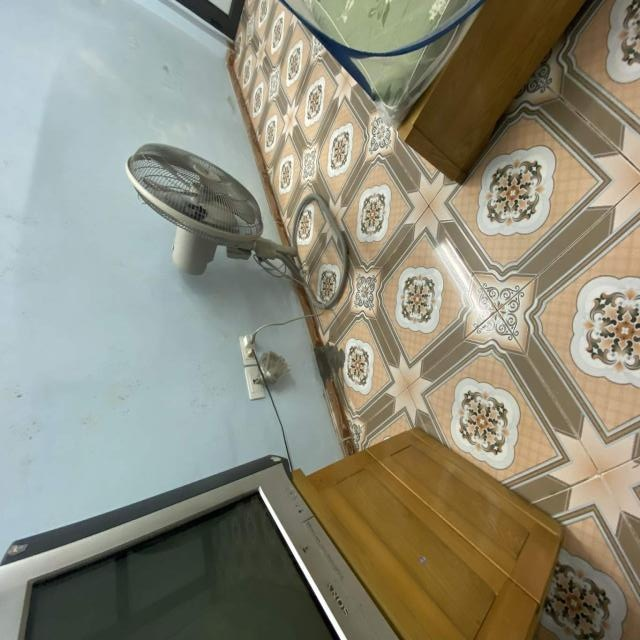outlet: (245, 366, 266, 401), (239, 334, 259, 366)
